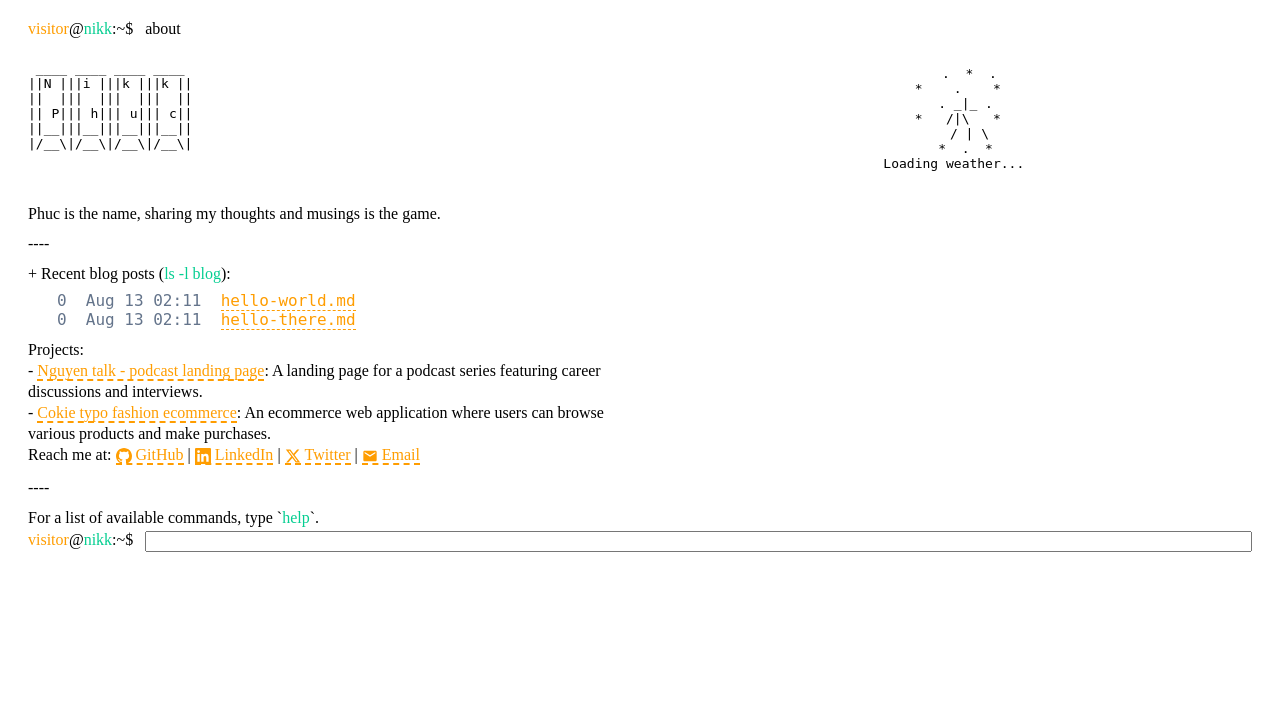
Test: Terminal component › autocomplete behavior › shows directory hints for ls command with empty path (level-by-level)
# Empty path shows top-level directories only (level-by-level)
Type "ls " into the field titled "terminal-input" at (699, 542), box [145, 531, 1252, 552]
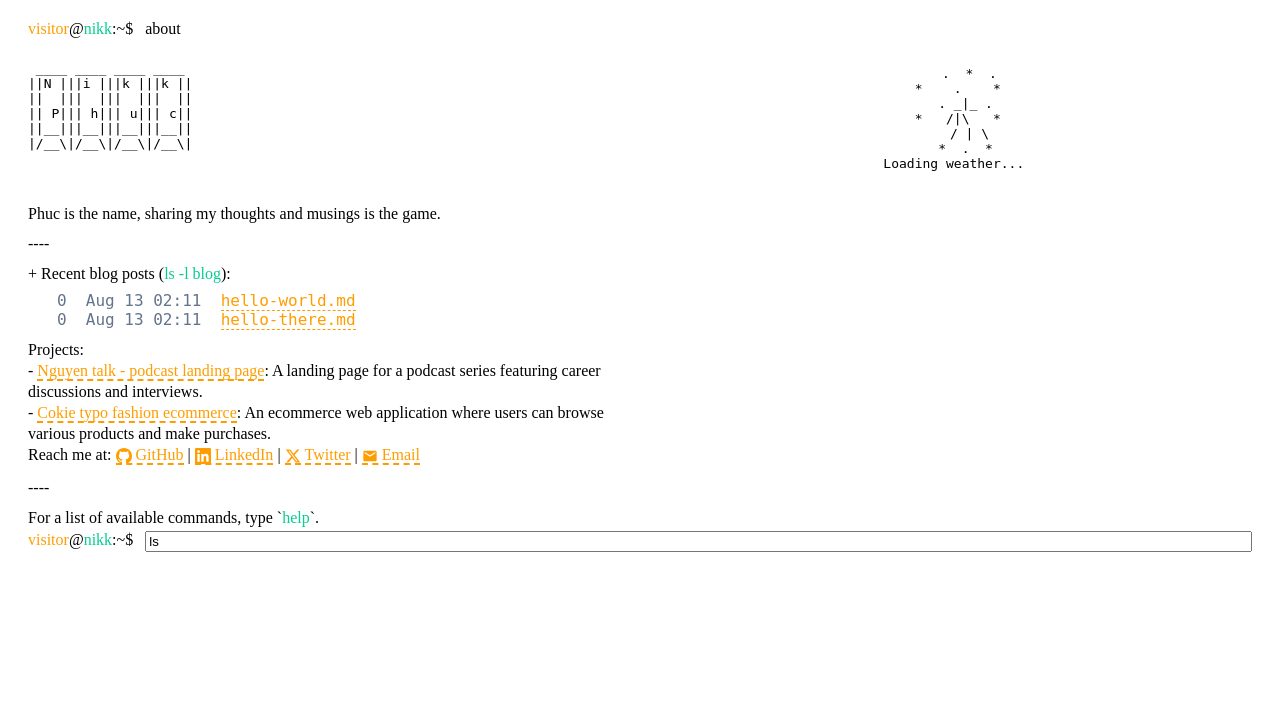
Press Tab in the field titled "terminal-input", box [145, 531, 1252, 552]
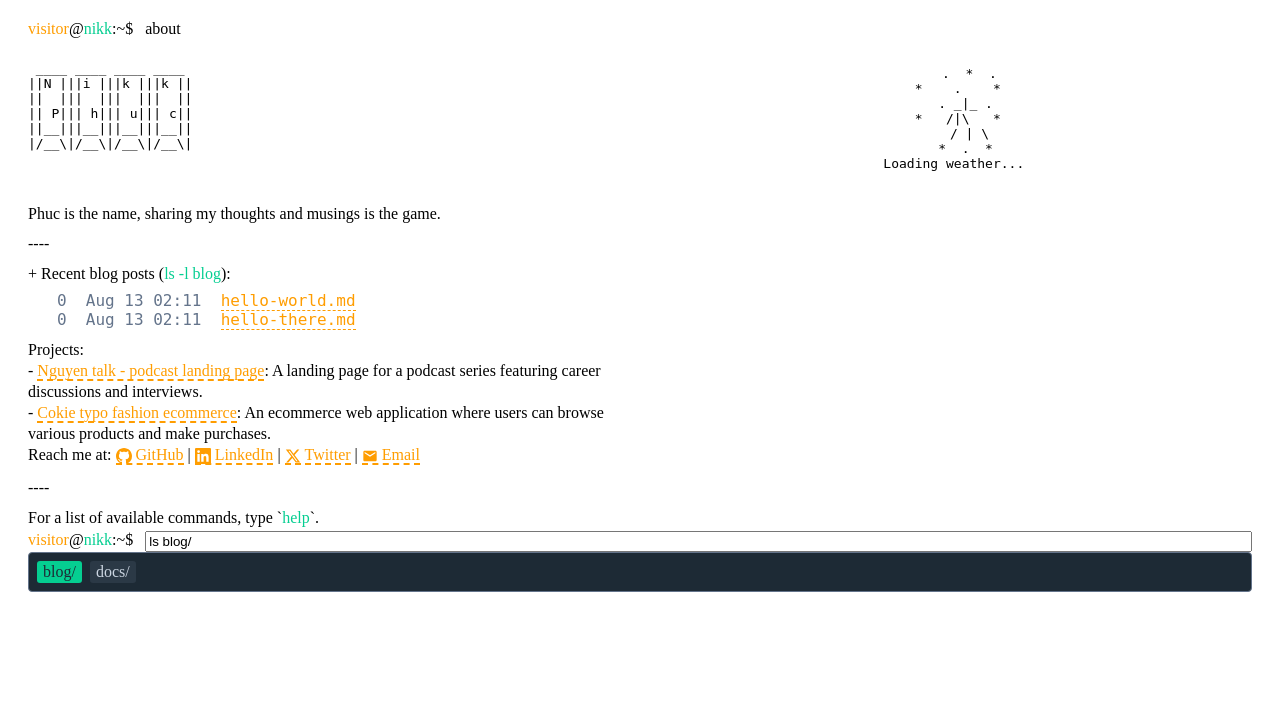
Result: the text "blog/" is shown at [37, 561, 82, 583]
Result: the text "docs/" is shown at [90, 561, 136, 583]
